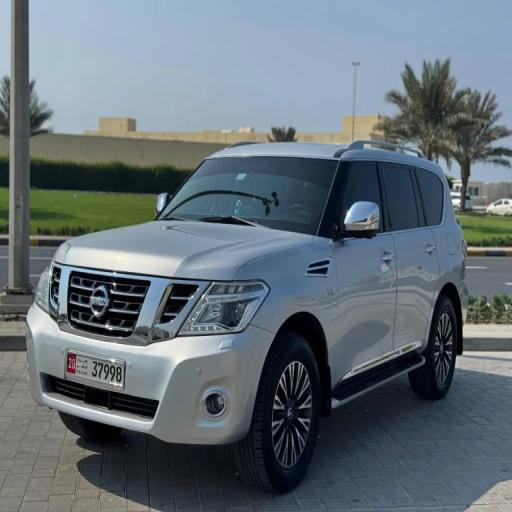license-plates: (66, 351, 123, 386)
